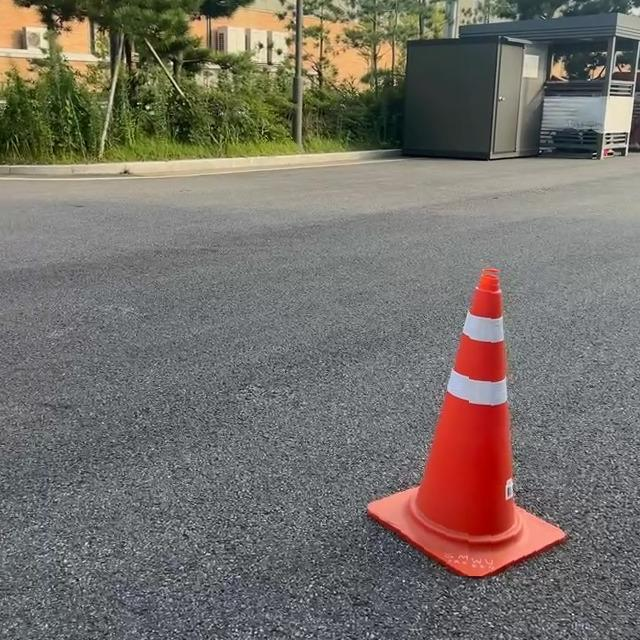fallen_object: (225, 182, 531, 544)
